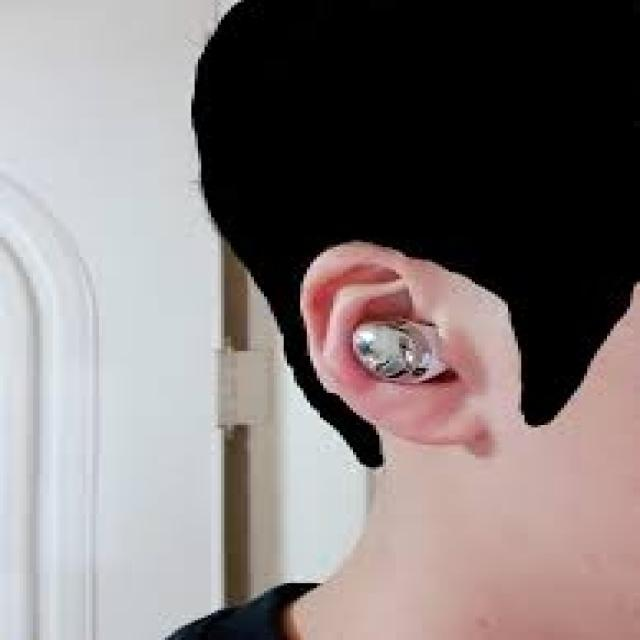earphone: (340, 290, 457, 403)
